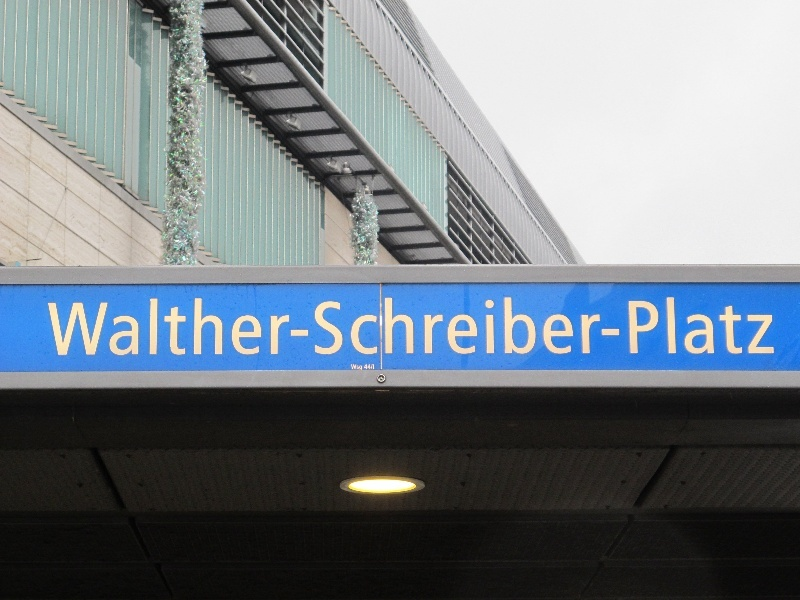text: (49, 295, 64, 358), (65, 295, 80, 358), (81, 295, 96, 358), (97, 295, 112, 358), (113, 295, 128, 358), (129, 295, 144, 358), (145, 295, 160, 358), (161, 295, 176, 358), (177, 295, 192, 358), (193, 295, 208, 358), (209, 295, 224, 358), (225, 295, 240, 358), (241, 295, 256, 358), (257, 295, 272, 358), (273, 295, 288, 358), (289, 295, 304, 358), (305, 295, 320, 358), (321, 295, 336, 358), (337, 295, 352, 358), (353, 295, 368, 358), (369, 295, 384, 358), (385, 295, 400, 358), (401, 295, 416, 358), (417, 295, 432, 358), (433, 295, 448, 358), (449, 295, 464, 358), (465, 295, 480, 358), (481, 295, 496, 358), (497, 295, 512, 358), (513, 295, 528, 358), (529, 295, 544, 358), (545, 295, 560, 358), (561, 295, 576, 358), (577, 295, 592, 358), (593, 295, 608, 358), (609, 295, 624, 358), (625, 295, 640, 358), (641, 295, 656, 358), (657, 295, 672, 358), (673, 295, 688, 358), (689, 295, 704, 358), (705, 295, 720, 358), (721, 295, 736, 358), (737, 295, 752, 358), (753, 295, 768, 358), (769, 295, 776, 358), (45, 295, 48, 358)
